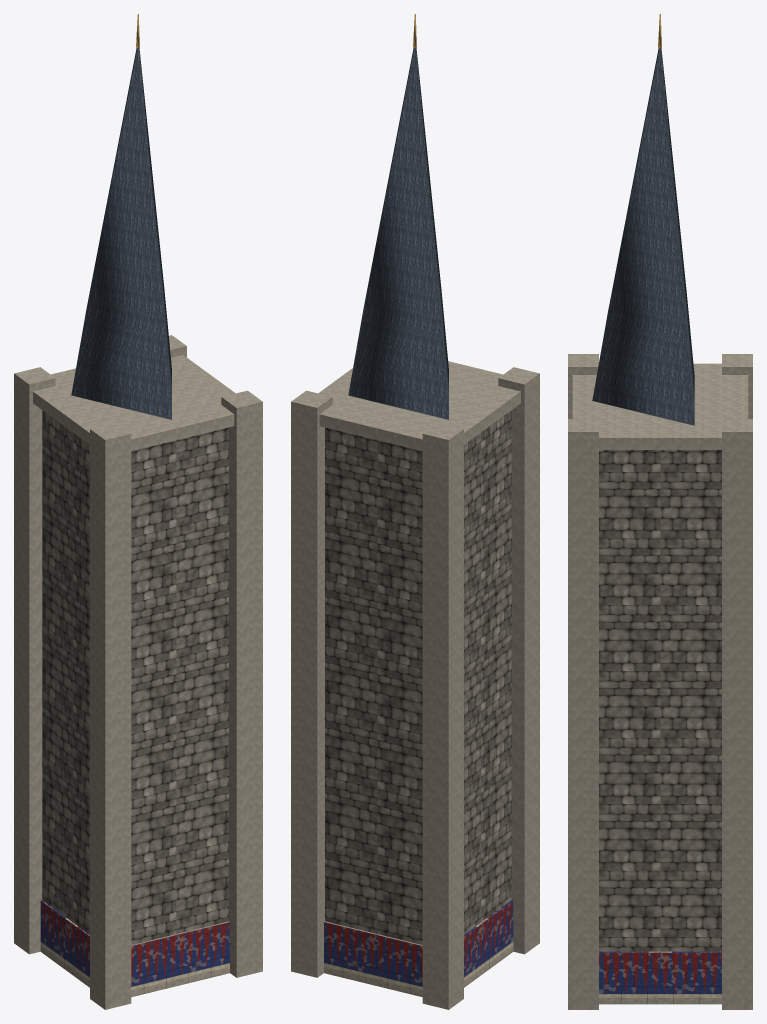
Rendered from Palace_Imperial_Spire_1_LOD2.gltf.
3 renders of one model, left to right at view 1: azimuth 30°, elevation 25°; view 2: azimuth 150°, elevation 25°; view 3: azimuth 270°, elevation 25°, orthographic.
Visible parts, largest first — view 1: Palace_Imperial_Spire_1_LOD2; view 2: Palace_Imperial_Spire_1_LOD2; view 3: Palace_Imperial_Spire_1_LOD2.
Boxes of the visible parts, bbox=[...] form: Palace_Imperial_Spire_1_LOD2: bbox=[14, 14, 262, 1009]; Palace_Imperial_Spire_1_LOD2: bbox=[291, 14, 539, 1009]; Palace_Imperial_Spire_1_LOD2: bbox=[568, 14, 752, 1009].
Bounding box in the file's own units: 8.4 × 48 × 8.4.
Materials: 5 (5 with a texture image).
